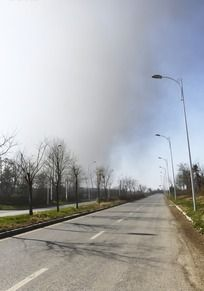smoke: (4, 4, 136, 170)
